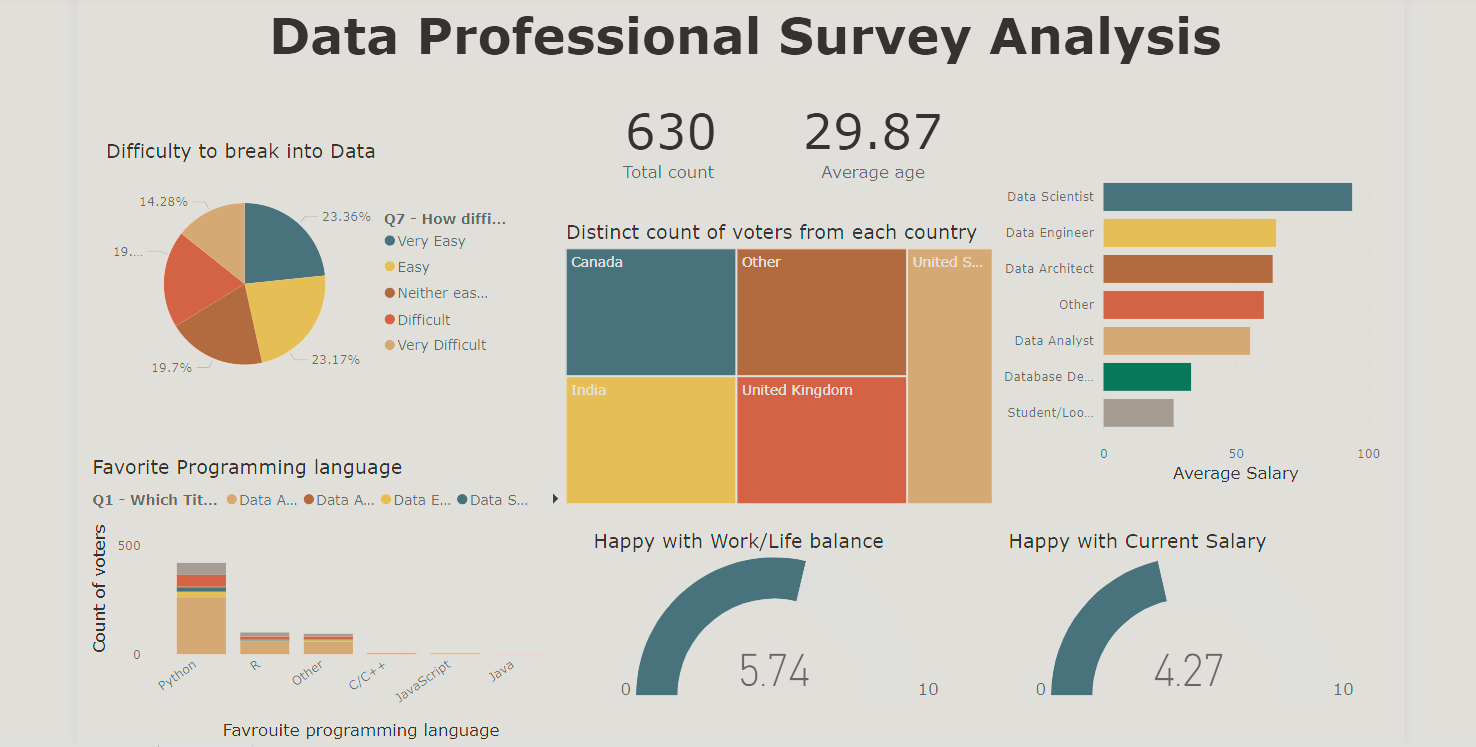

The page's visual inventory and layout, read from the dashboard file:
{"tool":"powerbi","page":{"name":"Page 1","canvas":[1280,720],"ordinal":0},"visuals":[{"type":"textbox","box":[10,0,1270,93.9],"z":0},{"type":"card","fields":{"Values":["CountNonNull(Data Professional Survey.Unique ID)"]},"box":[480.9,71.4,184.6,128.7],"z":1},{"type":"card","fields":{"Values":["Avg(Data Professional Survey.Q10 - Current Age)"]},"box":[674.8,71.4,187.7,128.7],"z":2},{"type":"barChart","fields":{"Category":["Data Professional Survey.Q1 - Which Title Best Fits your Current Role?.1"],"Y":["Avg(Data Professional Survey.Average Salary)"],"Series":["Data Professional Survey.Q1 - Which Title Best Fits your Current Role?.1"]},"box":[850,150.5,412.6,321.1],"z":3},{"type":"columnChart","title":"Favorite Programming language ","fields":{"Category":["Data Professional Survey.Q5 - Favorite Programming Language.1.1"],"Y":["CountNonNull(Data Professional Survey.Unique ID)"],"Series":["Data Professional Survey.Q1 - Which Title Best Fits your Current Role?.1"]},"box":[9.3,440.5,471.6,279.2],"z":4},{"type":"treemap","title":"Distinct count of voters from each country","fields":{"Group":["Data Professional Survey.Q11 - Which Country do you live in?.1"],"Values":["Count(Data Professional Survey.Q11 - Which Country do you live in?.1)"]},"box":[466.9,214.1,421.9,279.2],"z":5},{"type":"gauge","title":"Happy with Work/Life balance","fields":{"Y":["Avg(Data Professional Survey.Q6 - How Happy are you in your Current Position with the following? (Work/Life Balance))"],"MinValue":["Min(Data Professional Survey.Q6 - How Happy are you in your Current Position with the following? (Work/Life Balance))1"],"MaxValue":["Max(Data Professional Survey.Q6 - How Happy are you in your Current Position with the following? (Work/Life Balance))2"]},"box":[493.3,511.9,369.2,170.6],"z":6},{"type":"gauge","title":"Happy with Current Salary ","fields":{"Y":["Avg(Data Professional Survey.Q6 - How Happy are you in your Current Position with the following? (Salary))"],"MinValue":["Min(Data Professional Survey.Q6 - How Happy are you in your Current Position with the following? (Salary))"],"MaxValue":["Max(Data Professional Survey.Q6 - How Happy are you in your Current Position with the following? (Salary))"]},"box":[893.5,511.9,369.2,170.6],"z":7},{"type":"pieChart","title":"Difficulty to break into Data","fields":{"Y":["Avg(Data Professional Survey.Average Salary)"],"Category":["Data Professional Survey.Q7 - How difficult was it for you to break into Data?"]},"box":[23.3,135,394,257.5],"z":8}]}

Visuals, with their boxes on the page's 1280x720 design canvas (x1, y1, x2, y2). These are canvas units, not pixel positions in the 1476x747 screenshot, which may show the page scaled, cropped or inside an application window:
textbox: locate(10, 0, 1280, 94)
card - CountNonNull(Data Professional Survey.Unique ID): locate(481, 71, 666, 200)
card - Avg(Data Professional Survey.Q10 - Current Age): locate(675, 71, 862, 200)
barChart - Data Professional Survey.Q1 - Which Title Best Fits your Current Role?.1 x Avg(Data Professional Survey.Average Salary): locate(850, 150, 1263, 472)
"Favorite Programming language " columnChart: locate(9, 440, 481, 720)
"Distinct count of voters from each country" treemap: locate(467, 214, 889, 493)
"Happy with Work/Life balance" gauge: locate(493, 512, 862, 682)
"Happy with Current Salary " gauge: locate(894, 512, 1263, 682)
"Difficulty to break into Data" pieChart: locate(23, 135, 417, 392)
